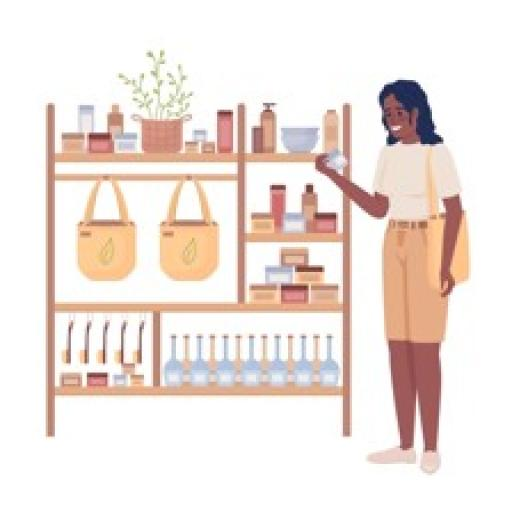human: (309, 66, 472, 485)
